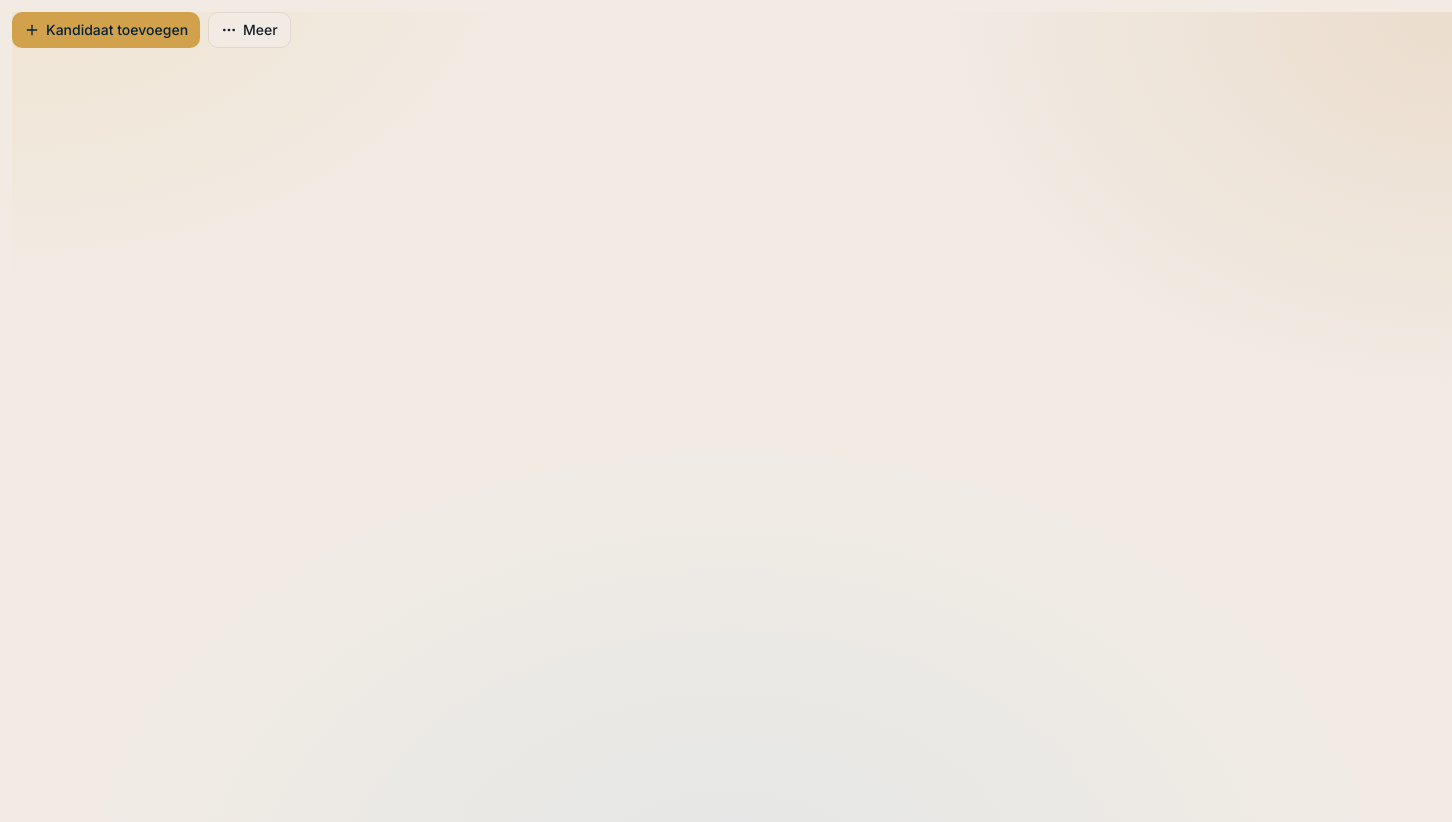
Test case: Kandidatenacties: één primaire knop en compact menu › behoudt alle registratiemogelijkheden via Meer
Later steps or results of the test are not shown.
Click the button "Kandidaat toevoegen".
click(106, 30)  # box [12, 12, 200, 48]
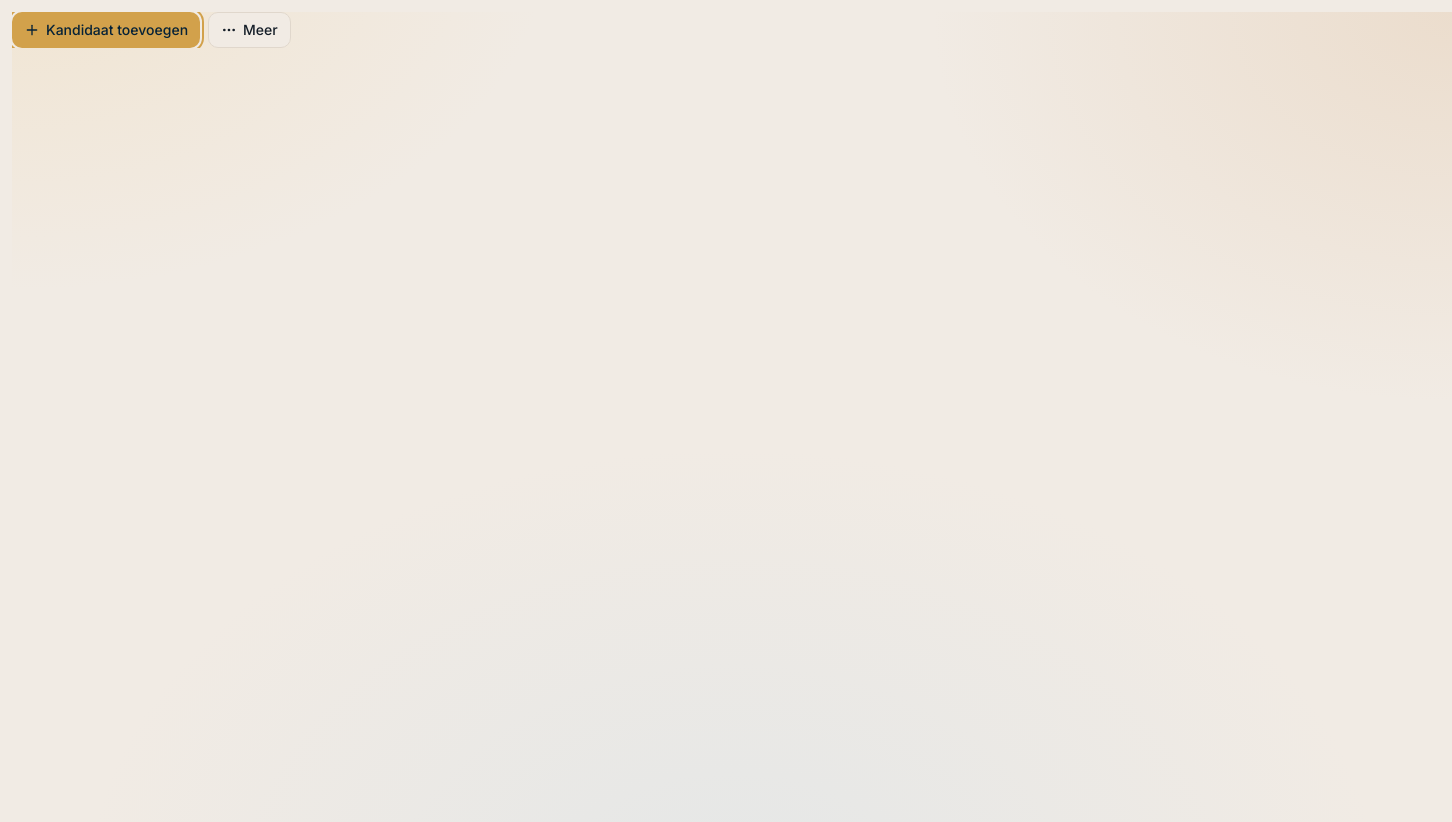
Click the button with aria-label "Meer kandidaat-acties".
click(249, 30)  # box [208, 12, 291, 48]
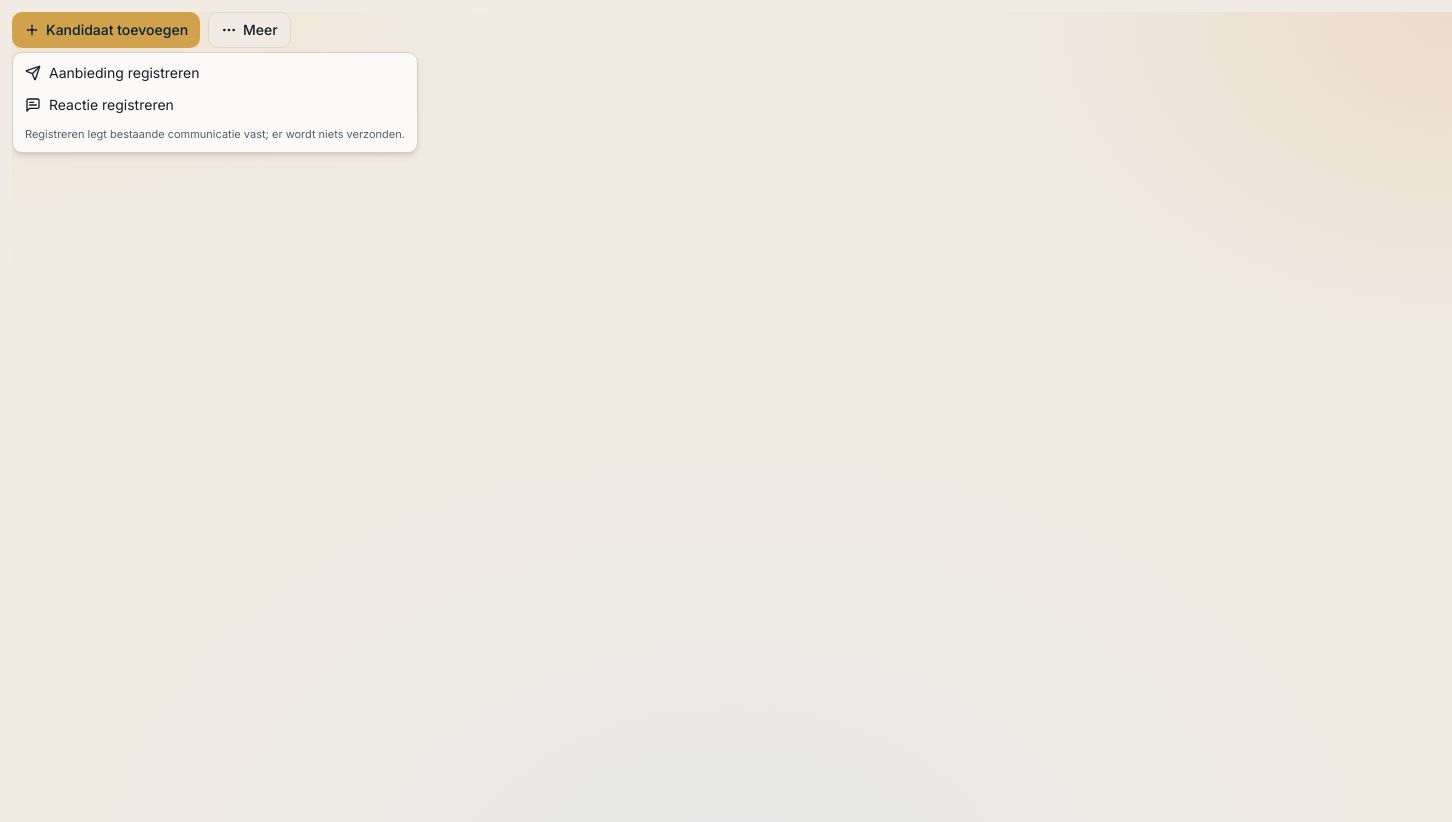
Result: the text "er wordt niets verzonden" is shown at [25, 127, 405, 141]
